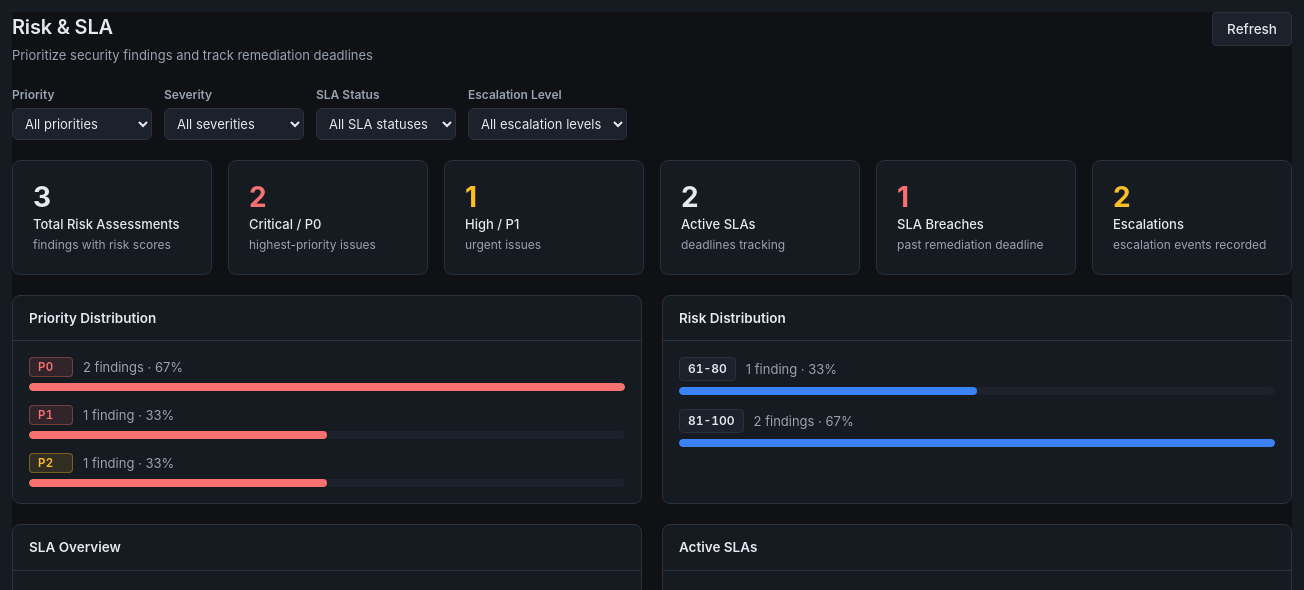
it: filters › filters the tables by priority and persists it to the URL
Expected: the heading "Risk & SLA" is shown, [12, 15, 113, 39]
Step 1. Select "P0" in the dropdown labelled "Priority" → (82, 124), box [12, 108, 152, 140]
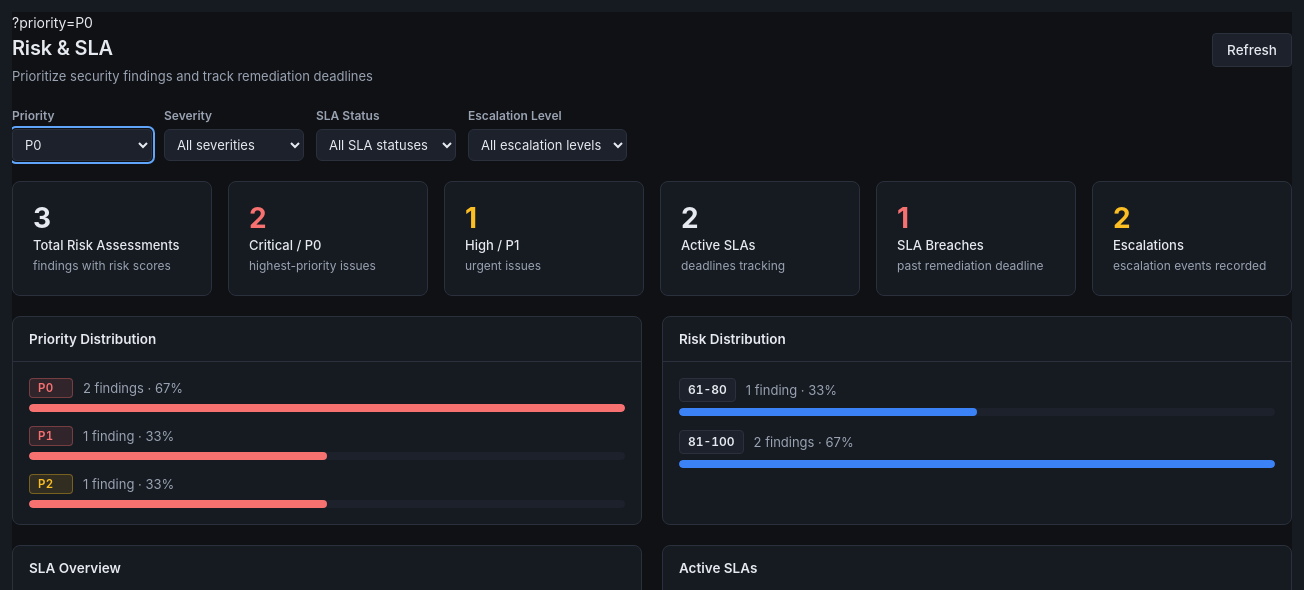
Expected: the text with test id "router-search" shows "priority=P0", [12, 14, 93, 31]
